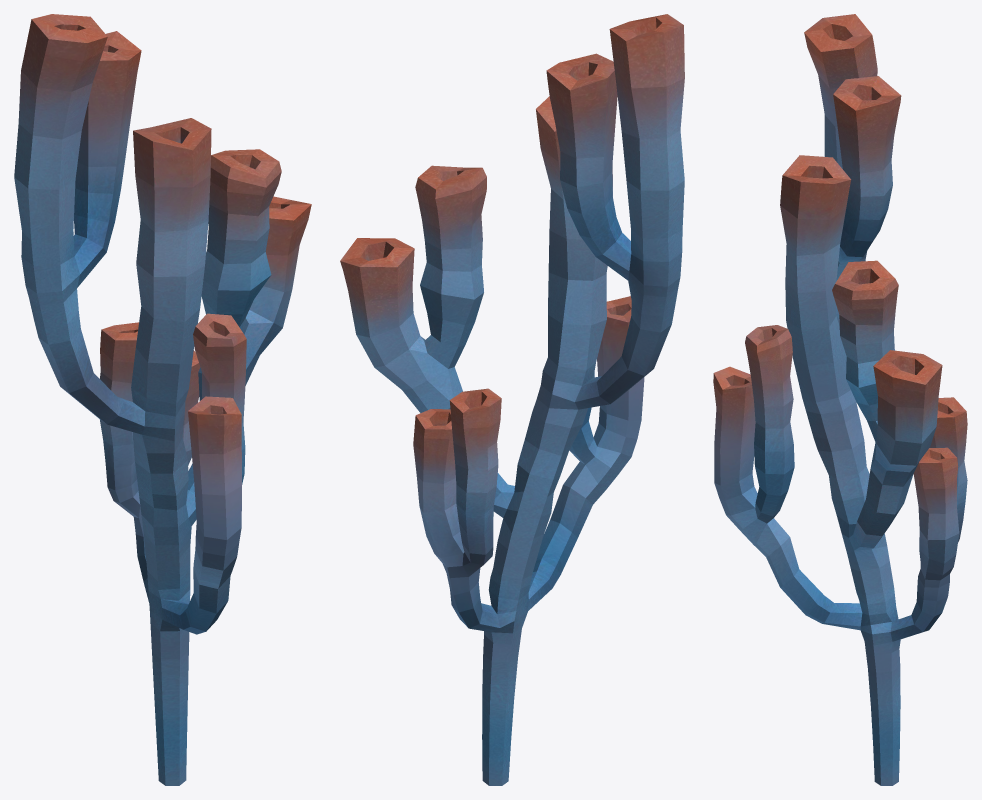
The model's file is plant_46.fbx.
3 views of the same model, side by side, from view 1: azimuth 30°, elevation 25°; view 2: azimuth 150°, elevation 25°; view 3: azimuth 270°, elevation 25° (orthographic). The views are drawn at different scales.
Visible parts, largest first — view 1: Mesh; view 2: Mesh; view 3: Mesh.
Boxes of the visible parts, x1=… form: Mesh: x1=14, y1=14, x2=311, y2=785; Mesh: x1=340, y1=14, x2=684, y2=785; Mesh: x1=713, y1=14, x2=967, y2=785.
Bounding box in the file's own units: 3.89 × 9.63 × 3.16.
